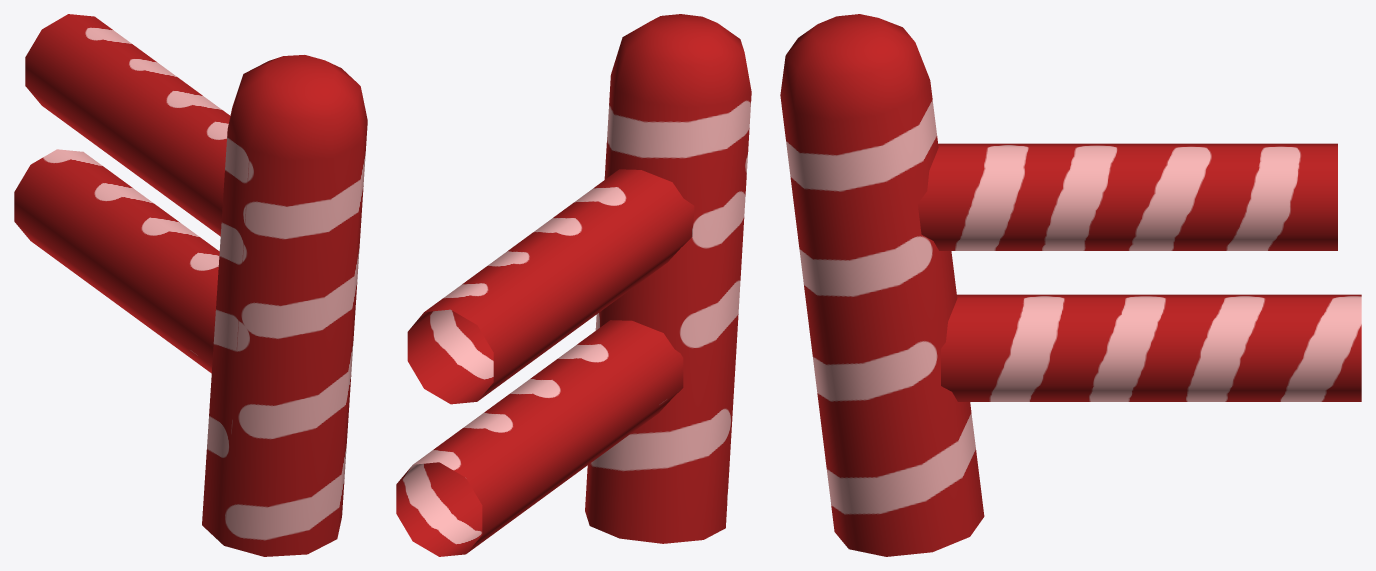
File: valla.fbx
3 views of the same model, side by side, from view 1: azimuth 30°, elevation 25°; view 2: azimuth 150°, elevation 25°; view 3: azimuth 270°, elevation 25° (orthographic). The views are drawn at different scales.
Parts seen in each view (by area): view 1: Sphere.091; view 2: Sphere.091; view 3: Sphere.091.
Boxes of the visible parts, bbox=[...] form: Sphere.091: bbox=[14, 14, 367, 556]; Sphere.091: bbox=[396, 14, 751, 556]; Sphere.091: bbox=[780, 14, 1361, 556].
Size of the model in its own units: 25.3 by 98.36 by 103.
